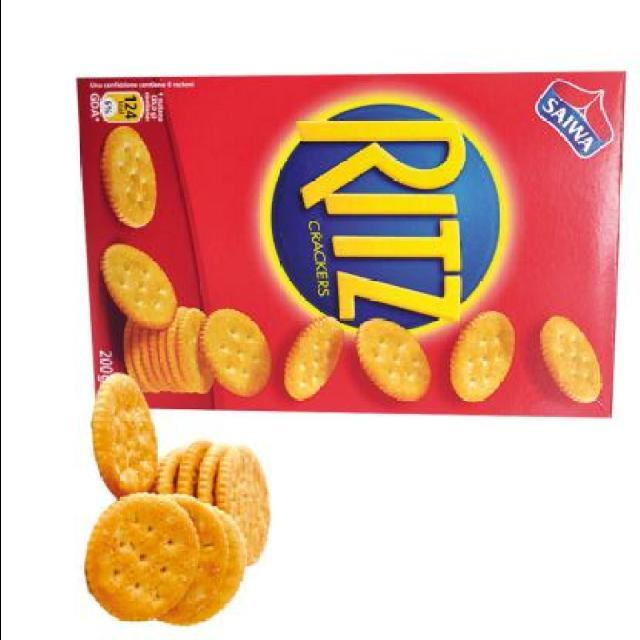Ritz cracker: (68, 61, 634, 422)
Ritz cracker packaged: (76, 381, 272, 628)
